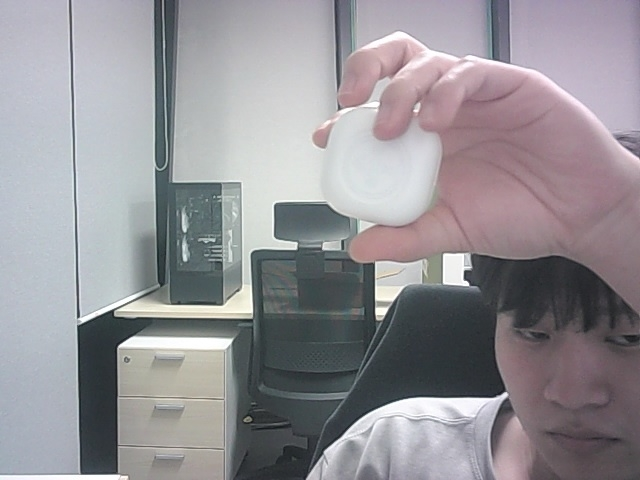case: (321, 104, 442, 226)
